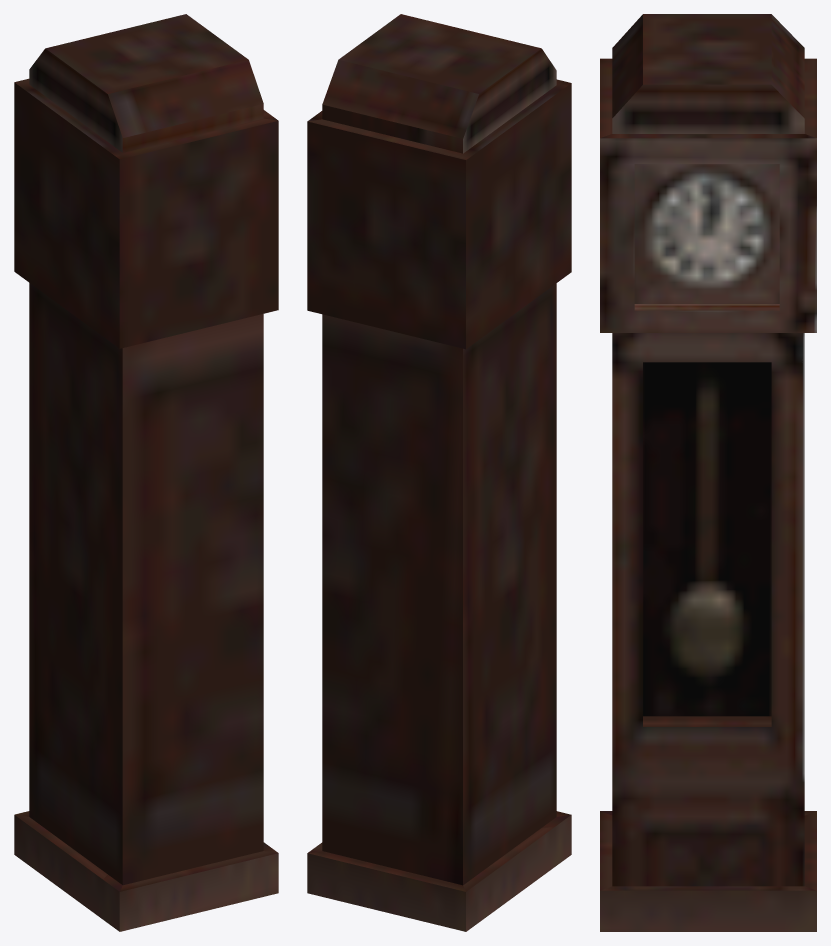
3 renders of one model, left to right at view 1: azimuth 30°, elevation 25°; view 2: azimuth 150°, elevation 25°; view 3: azimuth 270°, elevation 25°, orthographic. The views are drawn at different scales.
Visible parts, largest first — view 1: часы; view 2: часы; view 3: часы.
Part boxes in pixels (<box>): часы: <box>14,14,278,931</box>; часы: <box>307,14,571,931</box>; часы: <box>600,14,816,931</box>.
Bounding box in the file's own units: 86.76 × 428 × 99.8.
1 material, 1 textured.
